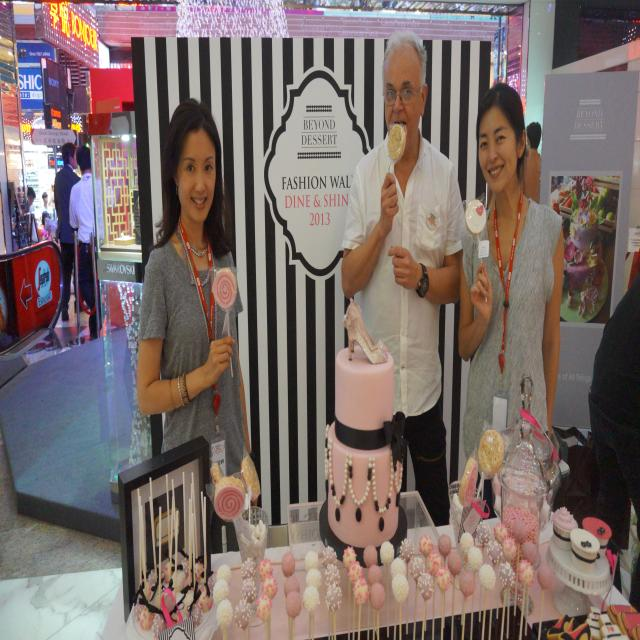body: (339, 29, 466, 526), (135, 94, 257, 488), (458, 81, 566, 521), (582, 260, 640, 503), (68, 144, 129, 342), (52, 140, 92, 323), (11, 181, 31, 290), (523, 121, 542, 205), (40, 210, 59, 250), (40, 192, 55, 222), (27, 186, 36, 207), (18, 185, 25, 202)
